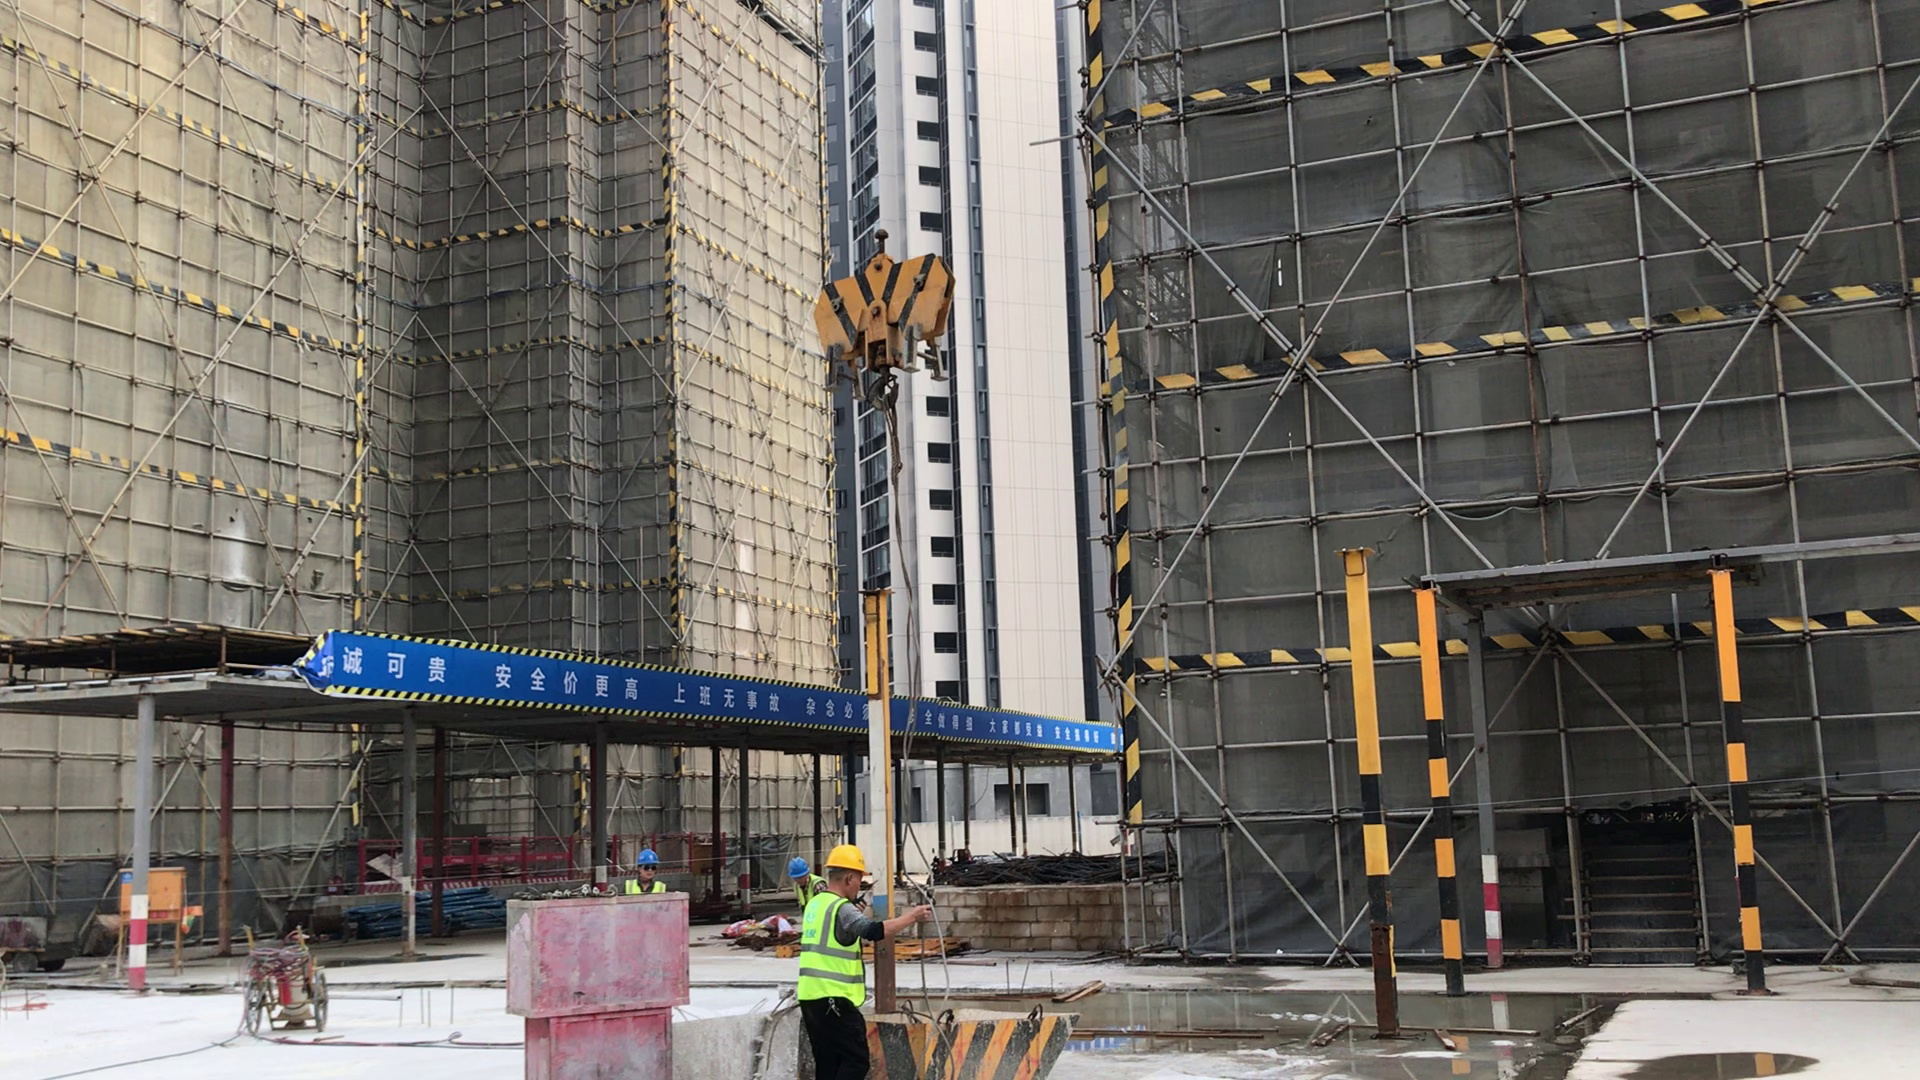ebox: (120, 866, 182, 910)
fence: (358, 835, 725, 893)
handcart: (238, 923, 332, 1042)
helmet: (825, 845, 864, 873), (635, 849, 658, 866), (787, 858, 807, 876)
hook: (813, 226, 959, 408)
hopper: (859, 996, 1075, 1080)
person: (797, 844, 932, 1080), (618, 848, 668, 897), (788, 856, 826, 916)
slogan: (319, 626, 1115, 754)
vest: (797, 893, 866, 1007)
